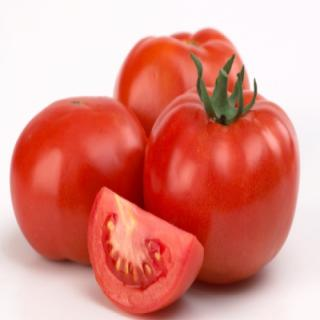Tomat: (143, 52, 301, 286), (10, 96, 149, 267), (114, 28, 251, 136)
